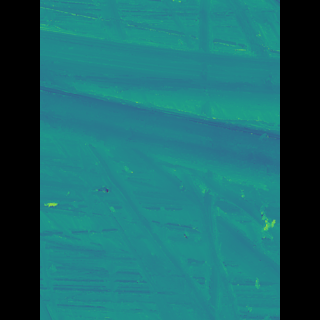Loch: (71, 26, 249, 302)
